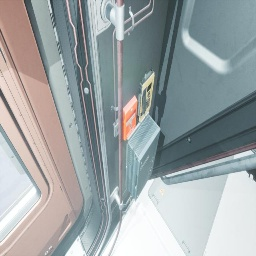EmergencyPhone ,: (136, 67, 155, 123)
FireAlarm ,: (123, 95, 137, 141)
